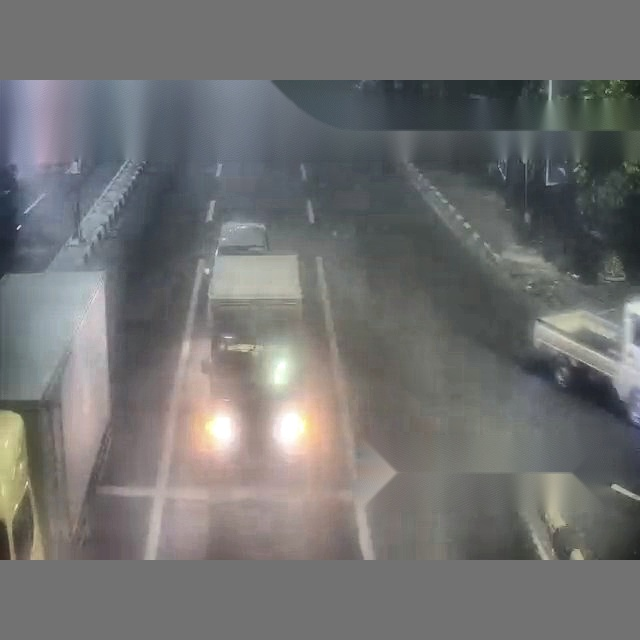Mobil: (212, 222, 269, 272)
Truk: (0, 268, 112, 558)
